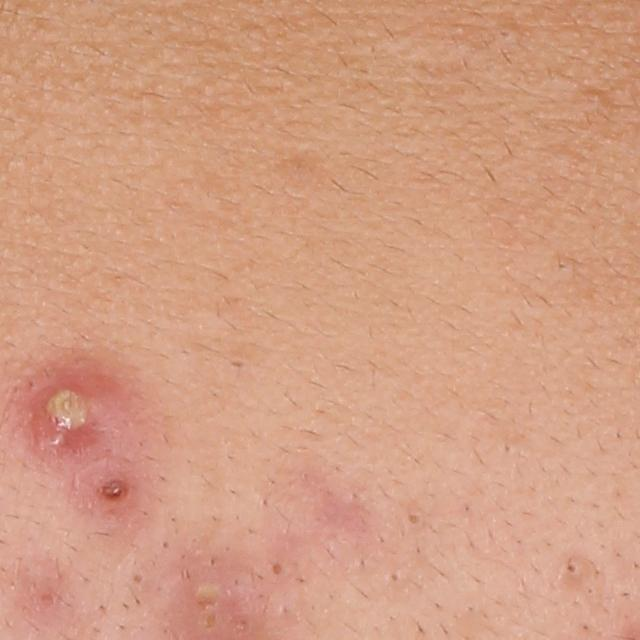comedo: (558, 551, 587, 583), (490, 21, 524, 44), (548, 253, 574, 280), (403, 506, 427, 535), (129, 567, 149, 590), (268, 558, 286, 579), (229, 354, 245, 372)
papule: (87, 470, 134, 512)
pustule: (26, 372, 120, 464)
